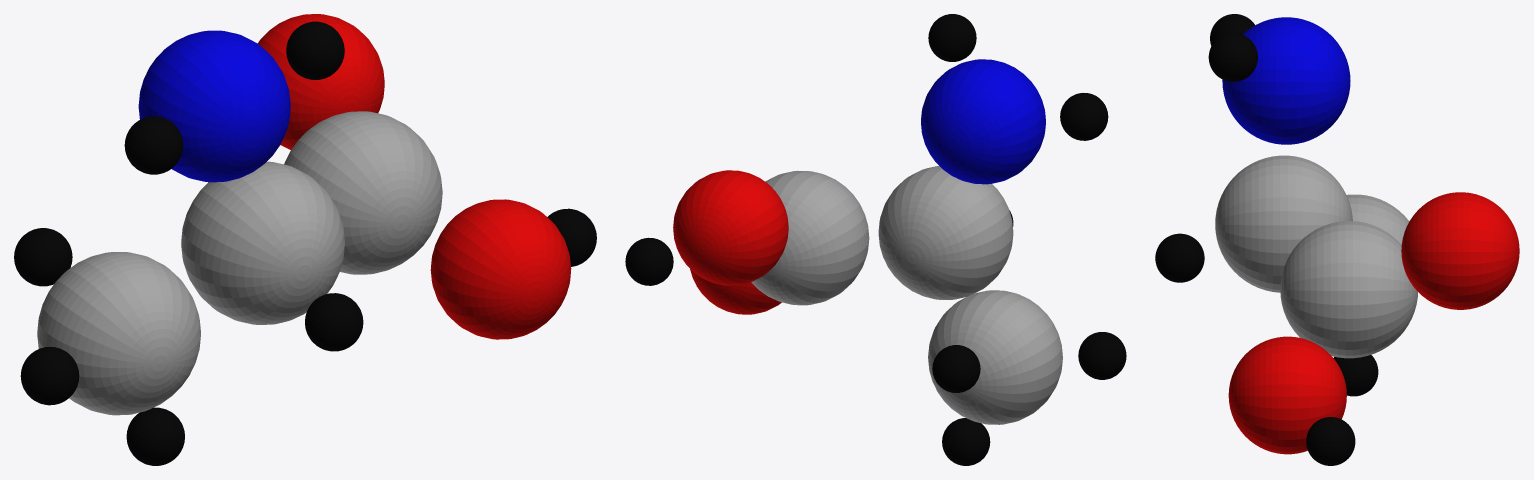
Rendered from Alanine.glb.
3 views of the same model, side by side, from view 1: azimuth 30°, elevation 25°; view 2: azimuth 150°, elevation 25°; view 3: azimuth 270°, elevation 25° (orthographic). The views are drawn at different scales.
Parts seen in each view (by area): view 1: world; view 2: world; view 3: world.
Boxes of the visible parts, box(x1,y1,x2,y2) form: world: box(14, 14, 596, 465); world: box(625, 14, 1126, 465); world: box(1155, 14, 1519, 465).
Bounding box in the file's own units: 5.76 × 4.42 × 3.7.
